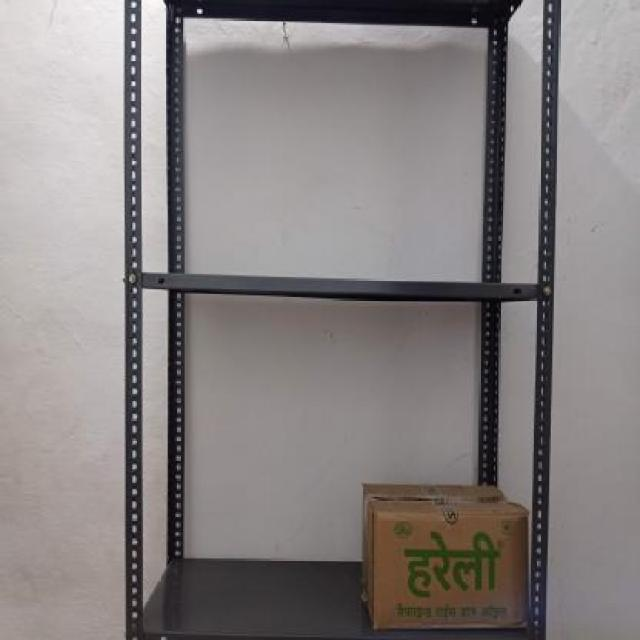box: (372, 515, 528, 623)
